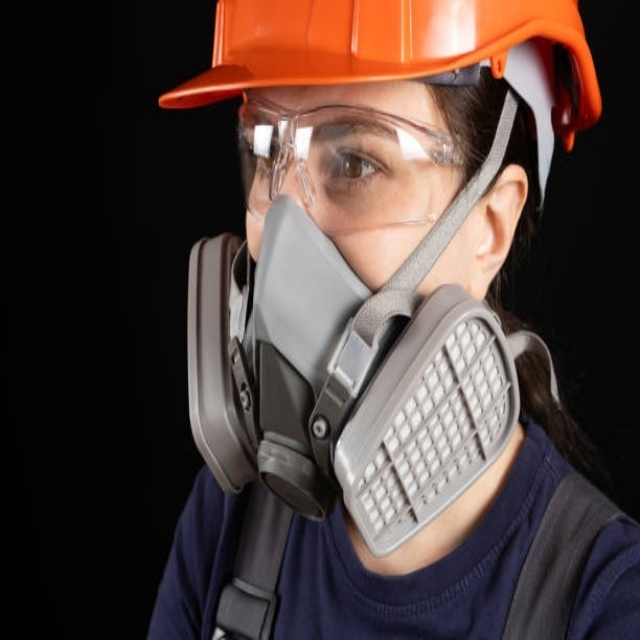Gafas: (239, 88, 477, 246)
Mascara: (178, 193, 525, 538)
